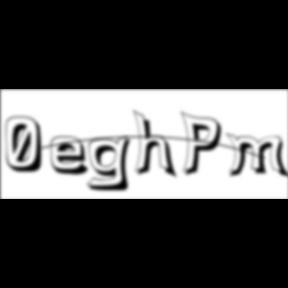0: (6, 115, 50, 174)
P: (180, 110, 228, 180)
e: (51, 135, 97, 178)
g: (86, 134, 138, 194)
h: (134, 108, 180, 182)
